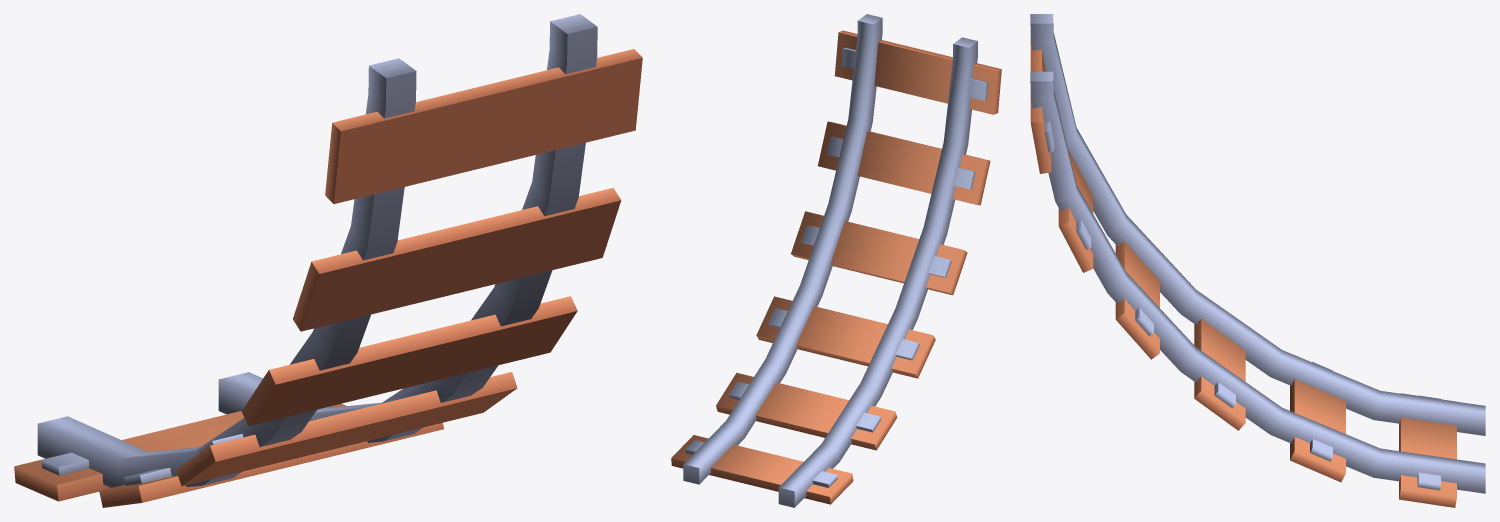
Rendered from kenney-train-railroad-straight-bend.glb.
The picture shows the model from 3 angles, left to right: view 1: azimuth 30°, elevation 25°; view 2: azimuth 150°, elevation 25°; view 3: azimuth 270°, elevation 25°; orthographic projection. The views are drawn at different scales.
Visible parts, largest first — view 1: railroad-straight-bend; view 2: railroad-straight-bend; view 3: railroad-straight-bend.
Part boxes in pixels (bbox=[...]): railroad-straight-bend: bbox=[14, 14, 642, 507]; railroad-straight-bend: bbox=[671, 14, 1001, 507]; railroad-straight-bend: bbox=[1030, 14, 1485, 507].
Bounding box in the file's own units: 1 × 2 × 2.
Materials: 1 (1 with a texture image).
